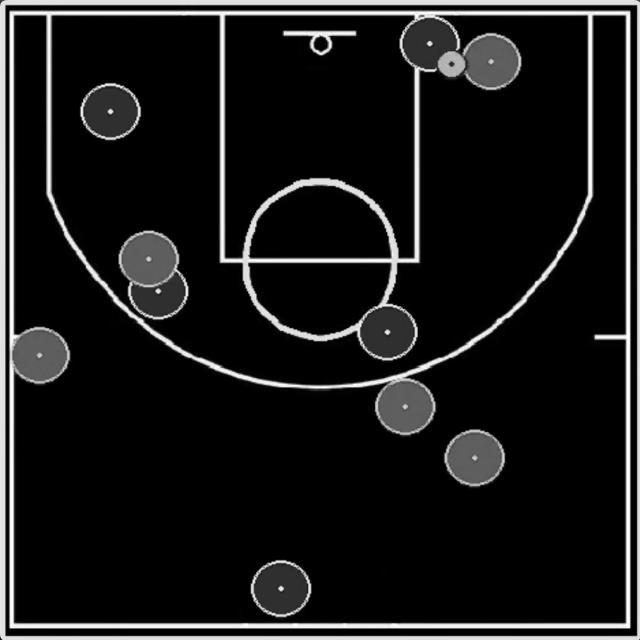Basketball: (438, 51, 467, 80)
Team_A: (250, 560, 311, 618), (80, 84, 141, 140), (127, 264, 188, 320), (358, 304, 418, 360), (400, 16, 460, 72)
Team_B: (375, 379, 435, 435), (444, 430, 504, 486), (11, 328, 71, 384), (118, 231, 178, 285), (464, 34, 521, 90)
